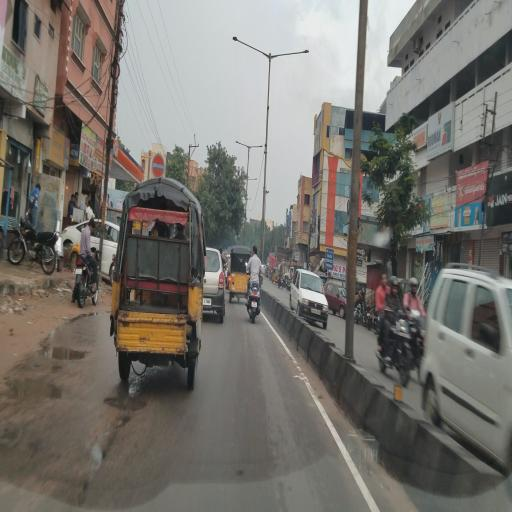street_light_0: (266, 36, 316, 67), (229, 30, 266, 56), (247, 125, 269, 157), (230, 130, 250, 160)
